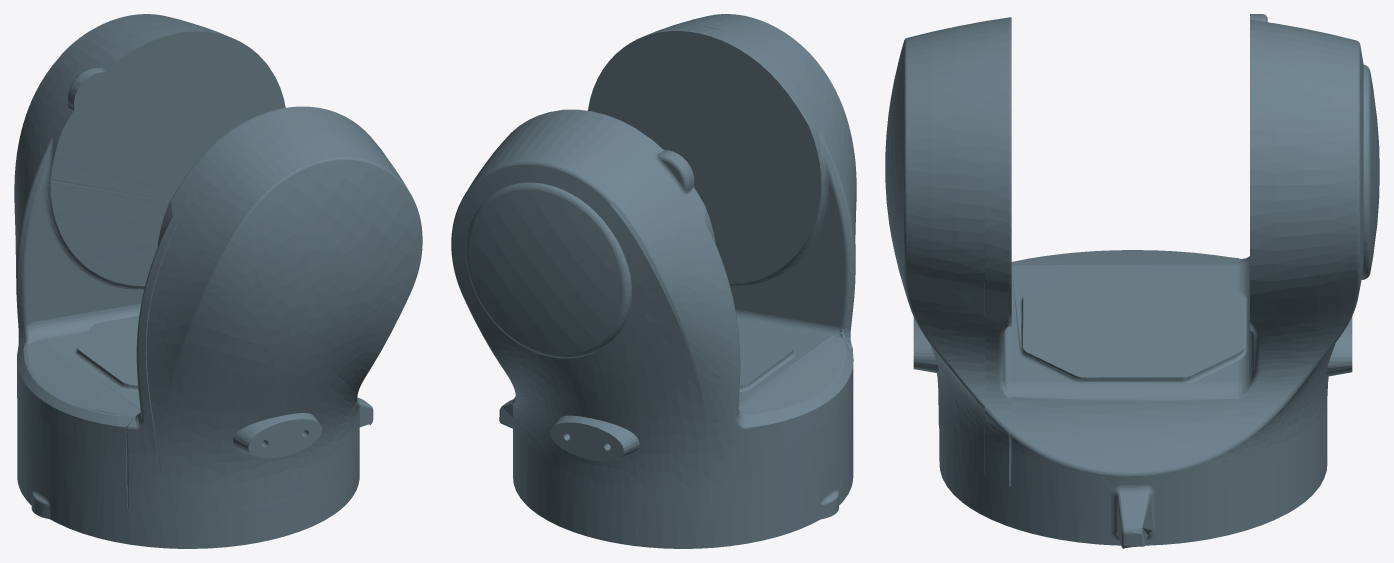
3 views of the same model, side by side, from view 1: azimuth 30°, elevation 25°; view 2: azimuth 150°, elevation 25°; view 3: azimuth 270°, elevation 25° (orthographic). The views are drawn at different scales.
Parts seen in each view (by area): view 1: link_1; view 2: link_1; view 3: link_1.
Boxes of the visible parts, bbox=[...] form: link_1: bbox=[14, 14, 422, 548]; link_1: bbox=[451, 14, 856, 548]; link_1: bbox=[885, 14, 1379, 548].
Bounding box in the file's own units: 0.2455 × 0.2779 × 0.2795.
